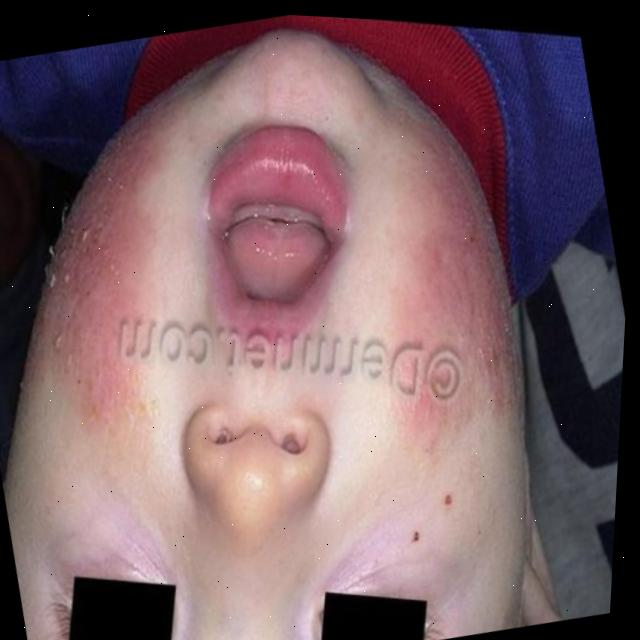Eczema: (52, 167, 225, 418), (386, 201, 525, 446)
